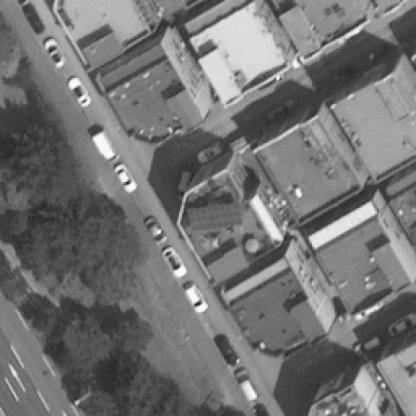solar-pv-panel: (186, 201, 242, 230)
